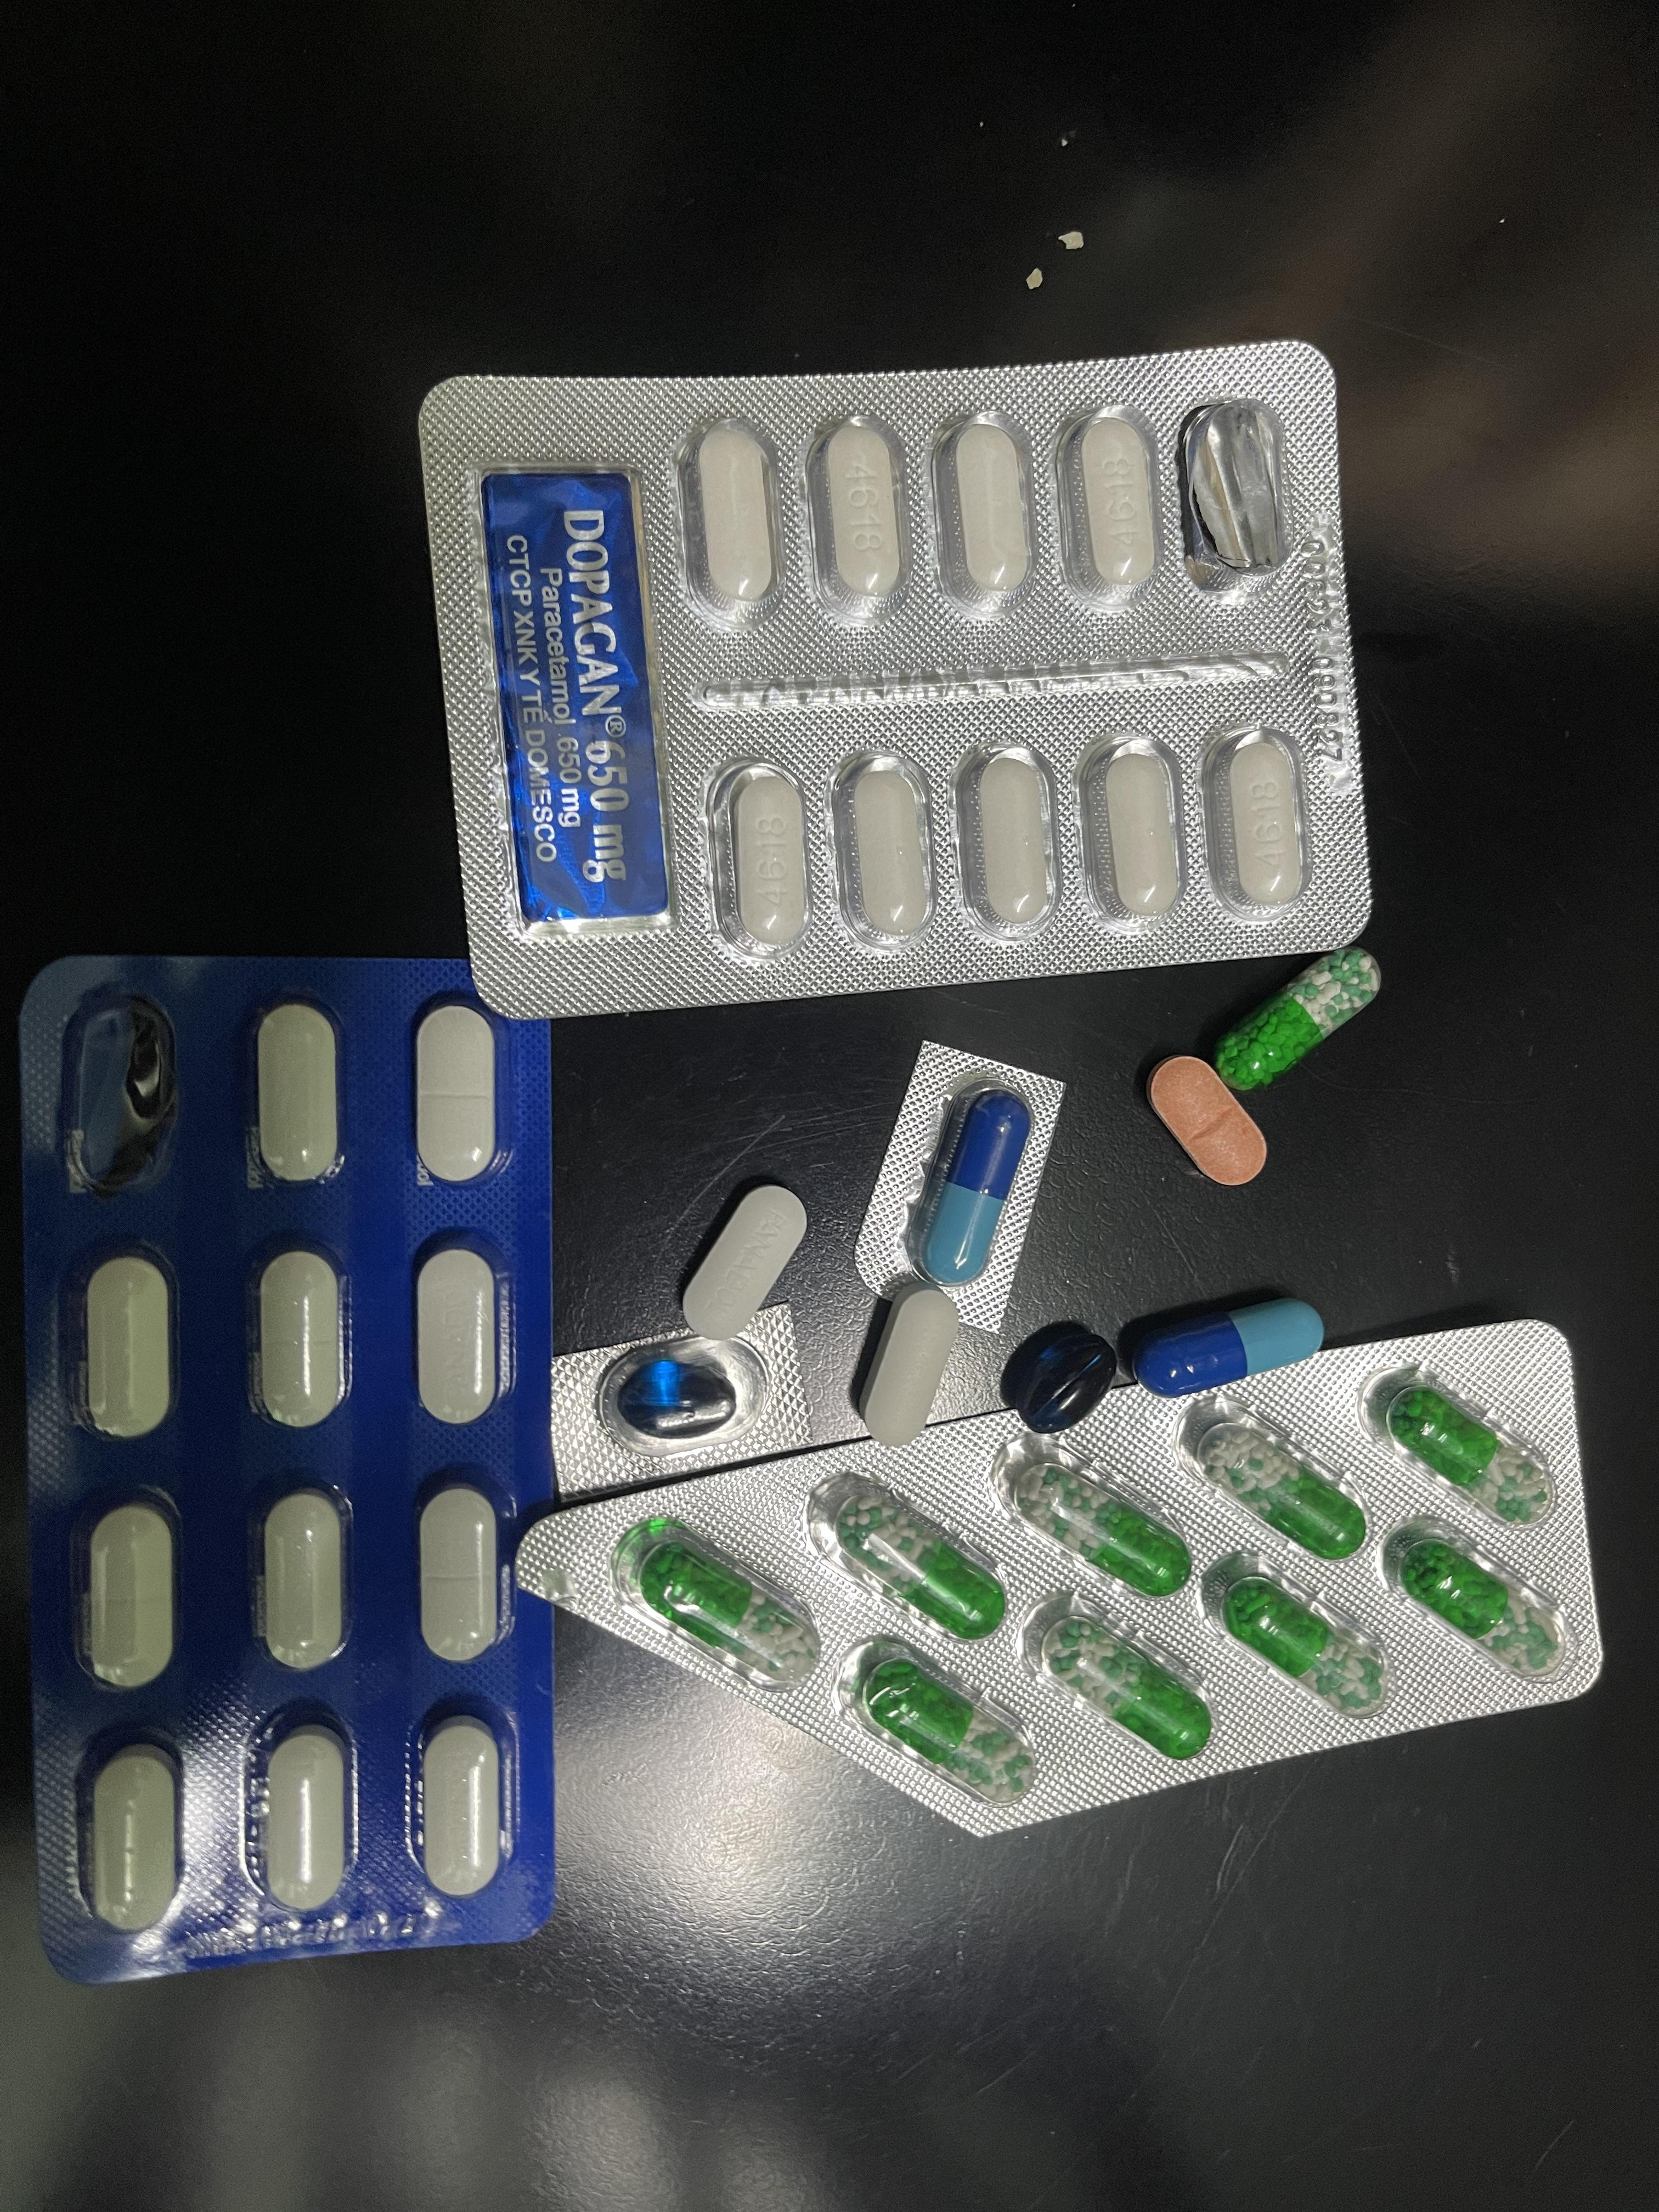Lincomyxin_500mg: (1000, 1320, 1117, 1433), (617, 1357, 732, 1435)
Loratadine_10mg: (1147, 1059, 1265, 1186)
Paracetamol_350mg: (680, 1184, 809, 1343), (78, 1496, 181, 1691), (80, 1254, 178, 1446), (413, 1238, 511, 1428), (254, 1484, 354, 1670), (87, 1743, 183, 1933), (251, 1245, 347, 1430), (416, 1477, 509, 1662), (260, 1726, 349, 1914), (254, 1003, 342, 1184), (420, 1716, 505, 1898), (413, 1005, 498, 1183)
Paracetamol_500mg: (1054, 406, 1166, 611), (673, 420, 781, 627), (934, 411, 1039, 618), (702, 759, 812, 956), (1077, 735, 1187, 932), (805, 415, 910, 620), (1201, 726, 1310, 921), (955, 745, 1061, 944), (830, 751, 934, 951), (854, 1280, 965, 1447)
Paracetamol_650mg: (838, 1634, 1037, 1804), (615, 1514, 814, 1684), (812, 1470, 1009, 1637), (1378, 1517, 1577, 1683), (1199, 1550, 1392, 1719), (1000, 1432, 1195, 1599), (1044, 1613, 1216, 1757), (1384, 1385, 1554, 1524), (1209, 956, 1380, 1090), (1202, 1425, 1370, 1561)
pill: (904, 1087, 1028, 1282), (1122, 1292, 1319, 1397)
